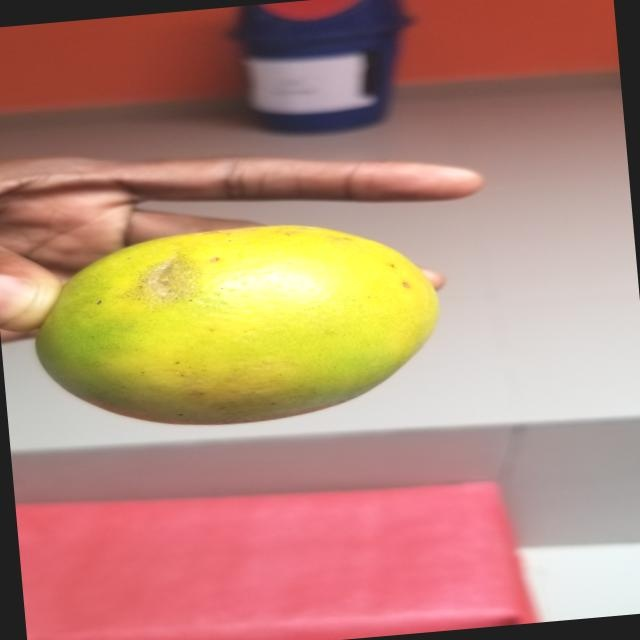agrume: (11, 194, 456, 446)
